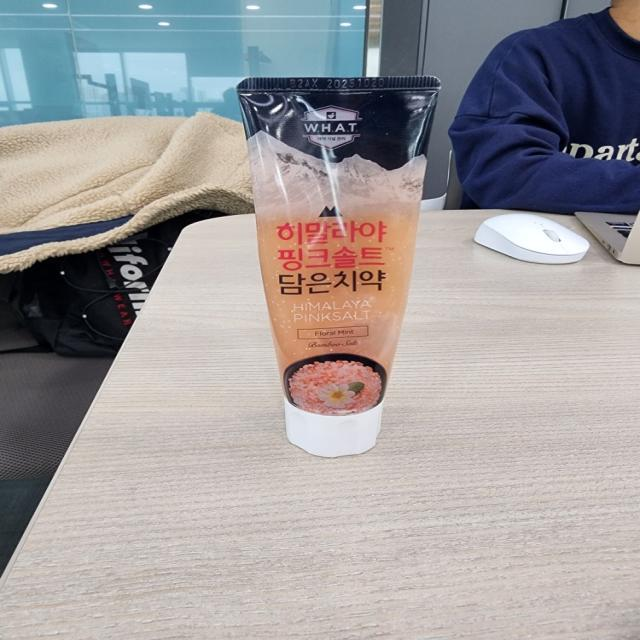toothpaste: (234, 72, 444, 456)
